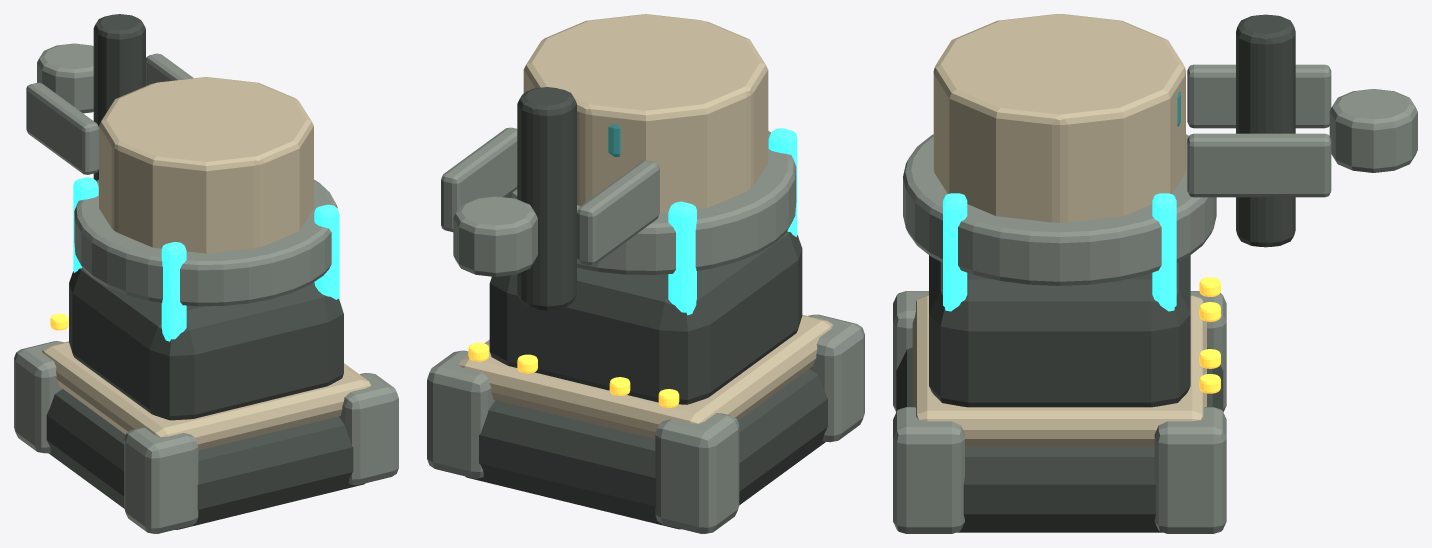
The model's file is tower.glb.
3 views of the same model, side by side, from view 1: azimuth 30°, elevation 25°; view 2: azimuth 150°, elevation 25°; view 3: azimuth 270°, elevation 25° (orthographic). The views are drawn at different scales.
Parts seen in each view (by area): view 1: Rotating gunhouse, Bastion plinth, Layered armored foundation.004, Armored turret race, Ceramic foundation cap.004, Corner cast foot.016, Corner cast foot.018, Autocannon barrel, Barrel heat sink, Corner cast foot.017, Muzzle shroud, TeamColor (+3 smaller); view 2: Rotating gunhouse, Bastion plinth, Layered armored foundation.004, Ceramic foundation cap.004, Autocannon barrel, Armored turret race, Corner cast foot.017, Corner cast foot.019, Muzzle shroud, Barrel heat sink, Corner cast foot.016, Barrel heat sink.001 (+2 smaller); view 3: Rotating gunhouse, Bastion plinth, Armored turret race, Layered armored foundation.004, Ceramic foundation cap.004, Autocannon barrel, Barrel heat sink.001, Corner cast foot.019, Corner cast foot.018, Muzzle shroud, Barrel heat sink, TeamColor luminous column.014 (+3 smaller).
Boxes of the visible parts, x1,y1,x2,y2 form: Rotating gunhouse: [99, 77, 313, 253]; Bastion plinth: [69, 268, 343, 420]; Layered armored foundation.004: [46, 389, 365, 529]; Armored turret race: [74, 179, 337, 306]; Ceramic foundation cap.004: [42, 341, 370, 450]; Corner cast foot.016: [124, 427, 198, 533]; Corner cast foot.018: [339, 373, 398, 484]; Autocannon barrel: [93, 14, 145, 180]; Barrel heat sink: [26, 82, 98, 174]; Corner cast foot.017: [14, 341, 63, 453]; Muzzle shroud: [37, 43, 93, 113]; TeamColor: [161, 242, 186, 341]; Rotating gunhouse: [523, 14, 768, 213]; Bastion plinth: [489, 231, 802, 404]; Layered armored foundation.004: [465, 369, 827, 529]; Ceramic foundation cap.004: [458, 314, 833, 438]; Autocannon barrel: [517, 87, 576, 310]; Armored turret race: [506, 131, 796, 274]; Corner cast foot.017: [655, 413, 739, 533]; Corner cast foot.019: [427, 350, 494, 478]; Muzzle shroud: [453, 196, 537, 276]; Barrel heat sink: [576, 160, 659, 265]; Corner cast foot.016: [808, 314, 864, 442]; Barrel heat sink.001: [441, 127, 517, 231]; Rotating gunhouse: [933, 14, 1185, 222]; Bastion plinth: [929, 255, 1190, 407]; Armored turret race: [903, 134, 1216, 285]; Layered armored foundation.004: [896, 347, 1223, 532]; Ceramic foundation cap.004: [912, 295, 1206, 446]; Autocannon barrel: [1236, 14, 1295, 247]; Barrel heat sink.001: [1187, 133, 1331, 197]; Corner cast foot.019: [1154, 407, 1226, 533]; Corner cast foot.018: [893, 407, 964, 533]; Muzzle shroud: [1329, 89, 1417, 172]; Barrel heat sink: [1187, 64, 1331, 128]; TeamColor luminous column.014: [1152, 193, 1176, 311].
Bounding box in the file's own units: 1.06 × 1.53 × 1.6.
